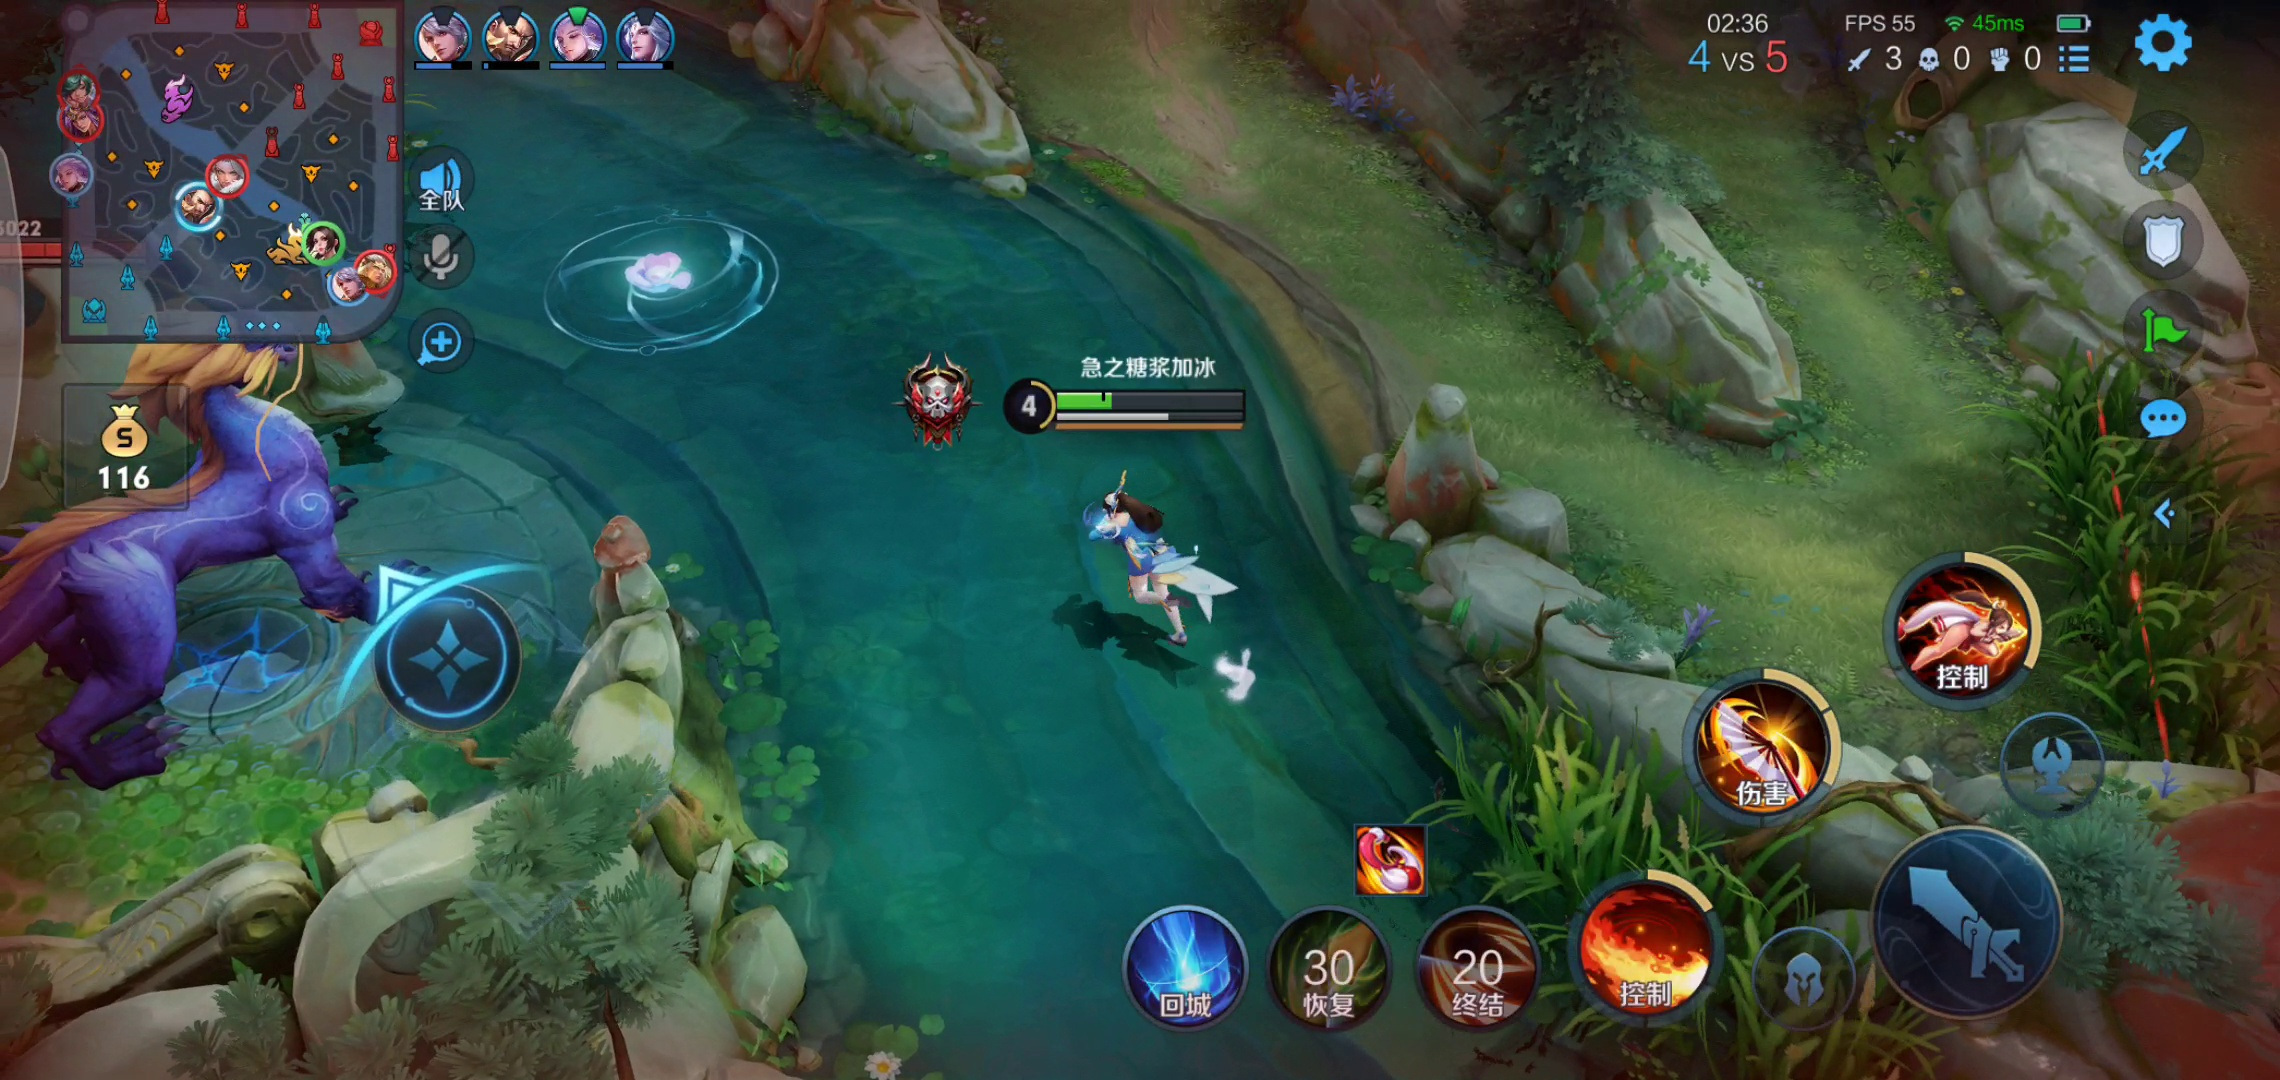dragon: (1, 249, 430, 789)
grass: (1405, 693, 1911, 1079), (2020, 353, 2279, 805)
hero: (1056, 477, 1230, 656)
